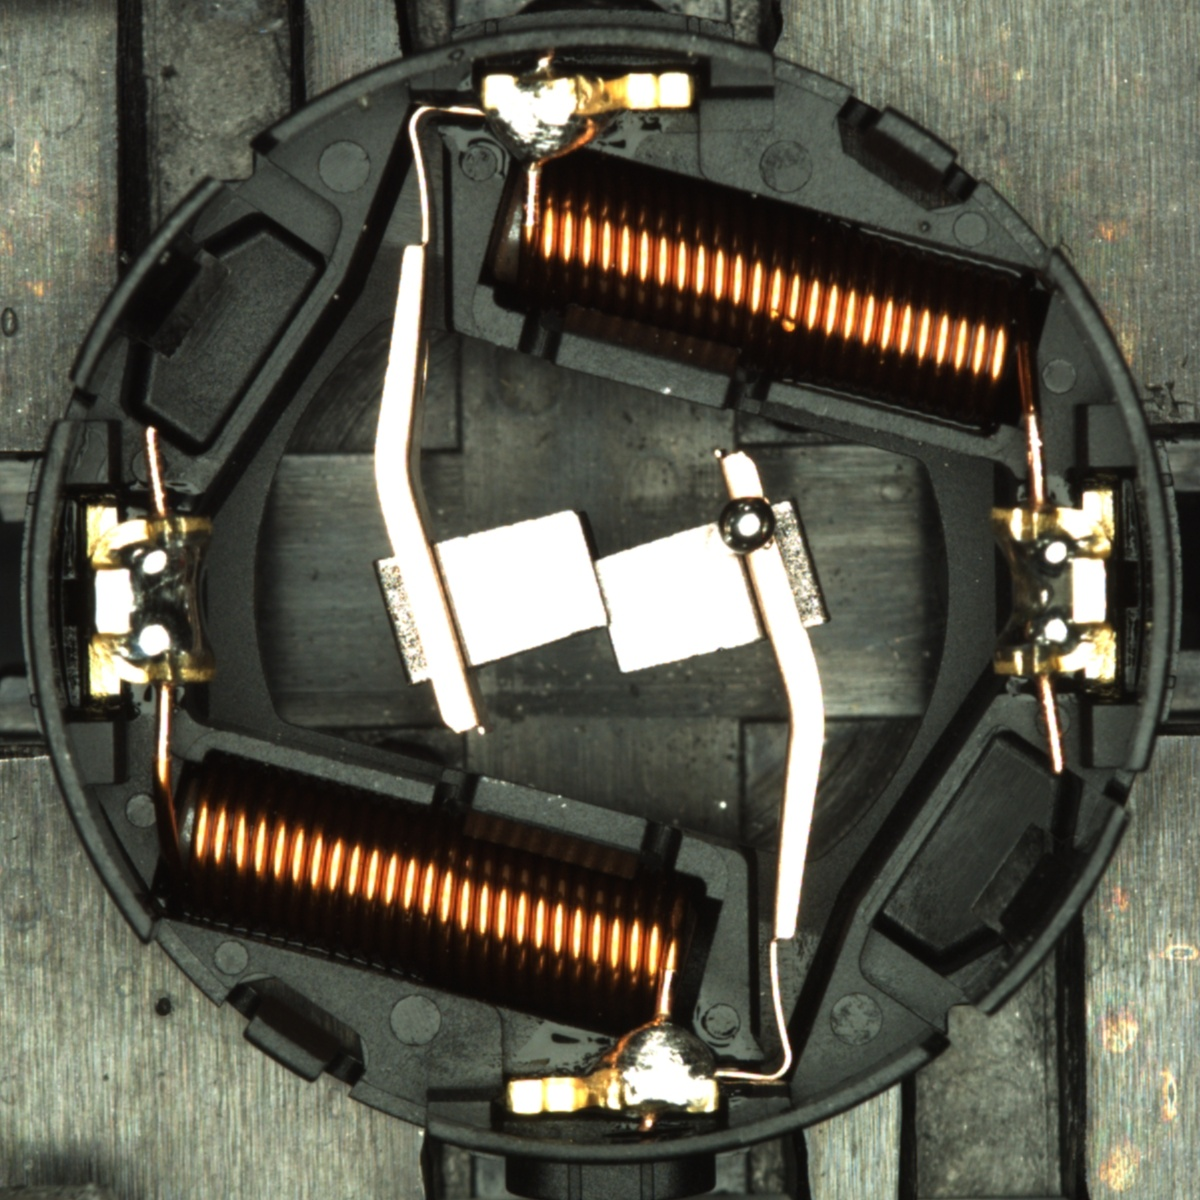1: (258, 55, 487, 279), (716, 953, 945, 1177)
2: (716, 55, 945, 279), (258, 953, 487, 1177)
3: (28, 279, 258, 504), (945, 728, 1175, 953)
4: (258, 279, 487, 504), (716, 728, 945, 953)
5: (487, 167, 716, 392), (487, 840, 716, 1065)
6: (716, 279, 945, 504), (258, 728, 487, 953)
7: (945, 279, 1175, 504), (28, 728, 258, 953)
chau_dien: (78, 499, 219, 701), (983, 487, 1123, 688)
hat_chi: (719, 496, 777, 555)
tay_choi: (480, 69, 698, 169), (507, 1017, 721, 1117)
thanh_de: (57, 162, 244, 405), (953, 789, 1139, 1031)
